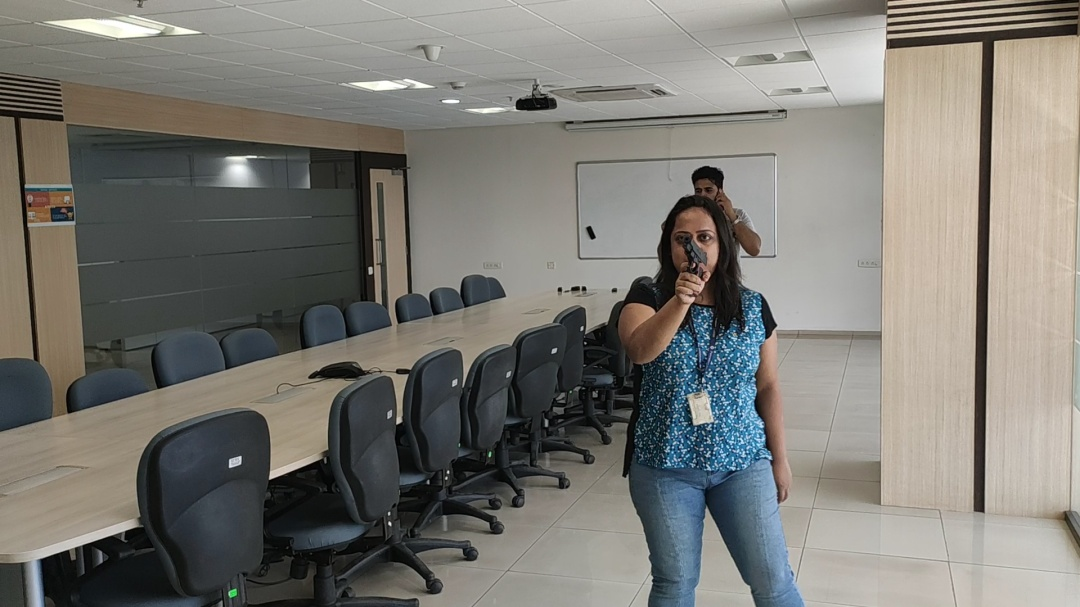gun: (680, 232, 708, 279)
